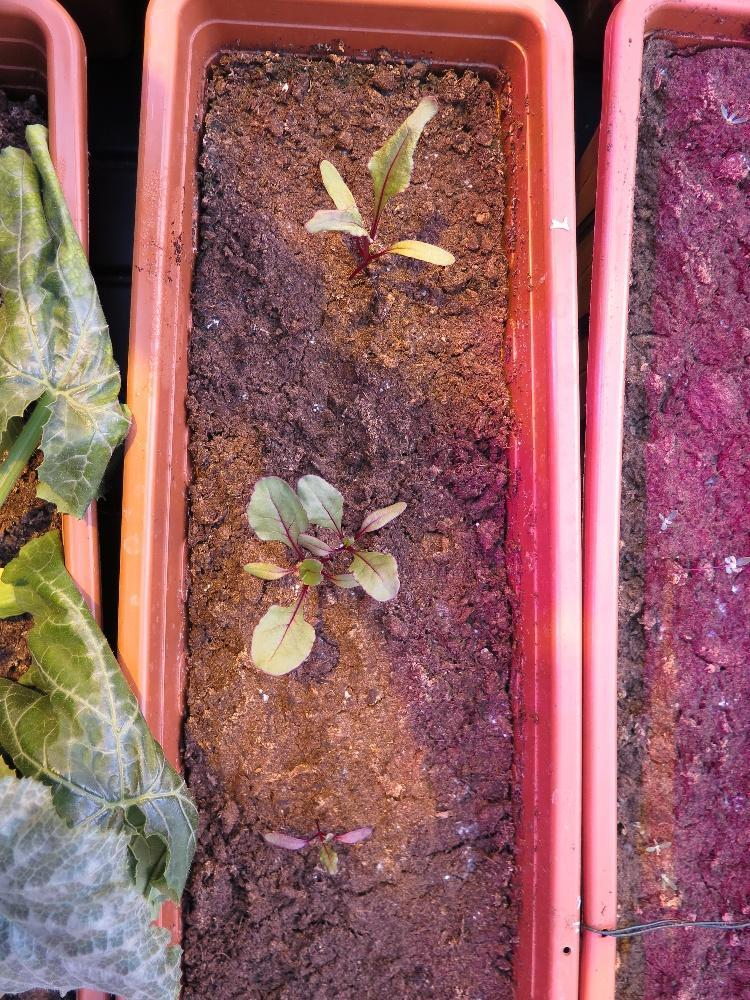weed: (719, 100, 747, 125), (643, 832, 671, 856), (656, 505, 679, 533), (659, 869, 677, 895)
